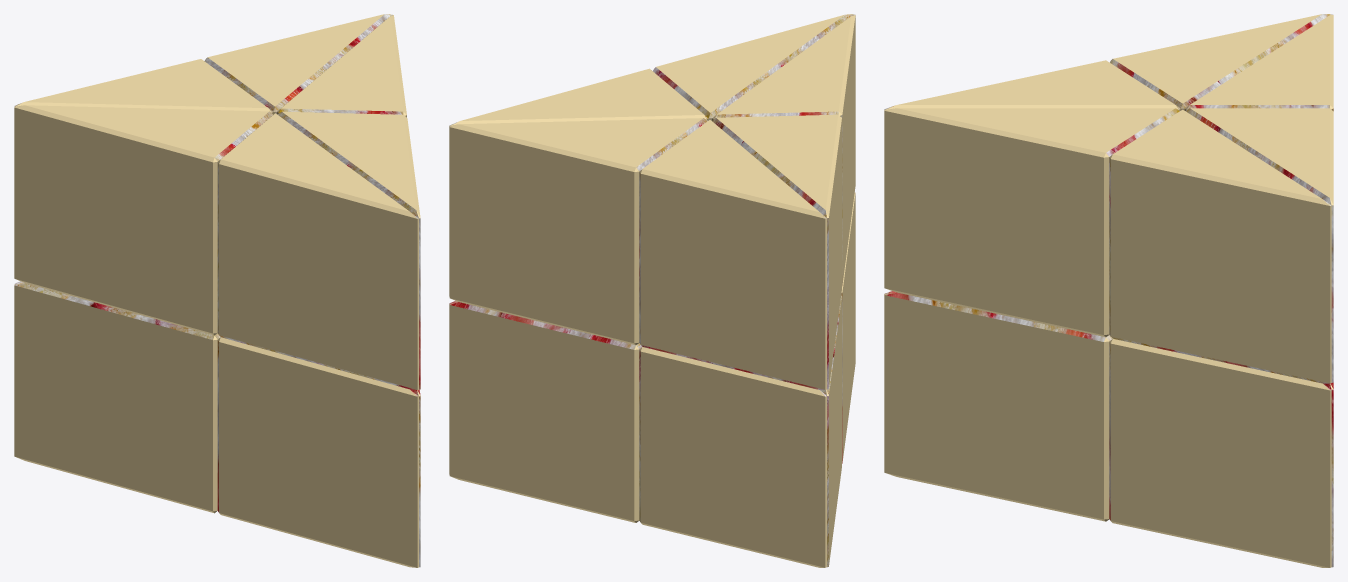
Rendered from slice_cake-broken.glb.
The picture shows the model from 3 angles, left to right: view 1: azimuth 30°, elevation 25°; view 2: azimuth 150°, elevation 25°; view 3: azimuth 270°, elevation 25°; orthographic projection. The views are drawn at different scales.
Parts seen in each view (by area): view 1: fragment_08, fragment_06, fragment_02, fragment_00, fragment_07, fragment_10, fragment_09, fragment_11; view 2: fragment_10, fragment_09, fragment_04, fragment_03, fragment_08, fragment_06, fragment_07, fragment_11, fragment_02, fragment_00; view 3: fragment_07, fragment_11, fragment_01, fragment_05, fragment_10, fragment_08, fragment_06, fragment_09, fragment_04.
Part boxes in pixels (bbox=[...]): fragment_08: bbox=[14, 105, 273, 335]; fragment_06: bbox=[217, 113, 418, 389]; fragment_02: bbox=[14, 283, 220, 513]; fragment_00: bbox=[217, 337, 418, 567]; fragment_07: bbox=[277, 111, 420, 389]; fragment_10: bbox=[204, 14, 391, 114]; fragment_09: bbox=[14, 59, 273, 113]; fragment_11: bbox=[277, 14, 406, 117]; fragment_10: bbox=[449, 118, 707, 345]; fragment_09: bbox=[639, 120, 826, 389]; fragment_04: bbox=[449, 302, 642, 522]; fragment_03: bbox=[639, 347, 826, 567]; fragment_08: bbox=[712, 114, 841, 389]; fragment_06: bbox=[712, 14, 855, 285]; fragment_07: bbox=[653, 14, 853, 120]; fragment_11: bbox=[449, 68, 708, 296]; fragment_02: bbox=[820, 295, 841, 567]; fragment_00: bbox=[841, 192, 855, 463]; fragment_07: bbox=[884, 108, 1179, 337]; fragment_11: bbox=[1109, 109, 1331, 383]; fragment_01: bbox=[884, 292, 1112, 521]; fragment_05: bbox=[1109, 339, 1331, 567]; fragment_10: bbox=[1185, 108, 1333, 382]; fragment_08: bbox=[1110, 14, 1330, 110]; fragment_06: bbox=[884, 60, 1180, 110]; fragment_09: bbox=[1185, 14, 1333, 111]; fragment_04: bbox=[1323, 382, 1333, 567].
Bounding box in the file's own units: 1.79 × 1.6 × 1.77.
Materials: 2 (1 with a texture image).
